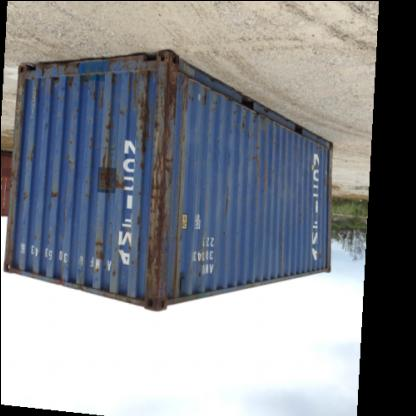Damage: (150, 54, 178, 310), (126, 55, 150, 177), (96, 113, 124, 196), (228, 107, 272, 139), (80, 67, 110, 108), (246, 138, 265, 198), (45, 61, 77, 94), (216, 182, 235, 235), (59, 130, 82, 171), (89, 230, 106, 280), (44, 184, 61, 216), (122, 241, 140, 271), (193, 86, 216, 108), (22, 138, 38, 168), (130, 208, 146, 232), (42, 105, 52, 138), (52, 272, 70, 290), (17, 188, 33, 206), (109, 264, 122, 283)
